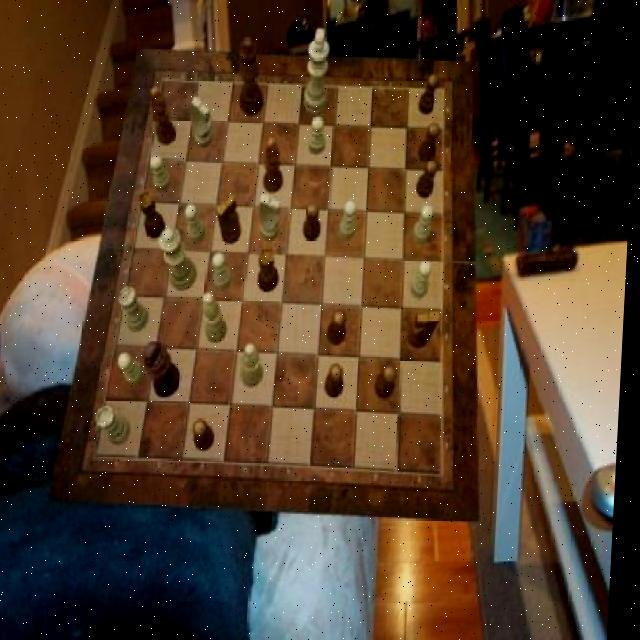bishop: (149, 88, 179, 146), (265, 139, 287, 193)
black-bishop: (146, 342, 186, 398)
black-king: (216, 196, 244, 244), (410, 311, 443, 348)
black-knight: (419, 123, 441, 163), (419, 74, 440, 115), (196, 418, 220, 452), (418, 160, 439, 198), (378, 365, 401, 399), (305, 203, 324, 241), (330, 310, 350, 346), (328, 363, 348, 398)
black-pawn: (237, 37, 268, 117)
black-queen: (139, 192, 169, 240), (259, 248, 284, 293)
black-rook: (203, 292, 231, 343), (243, 344, 268, 388)
white-bishop: (304, 30, 331, 116)
white-king: (191, 97, 216, 148), (260, 194, 283, 240)
white-knight: (120, 352, 149, 386), (185, 205, 209, 243), (150, 156, 174, 192), (413, 206, 435, 245), (412, 260, 434, 298), (340, 200, 360, 240), (213, 254, 234, 292), (309, 117, 328, 155)
white-pawn: (159, 228, 202, 292)
white-queen: (120, 288, 153, 332), (99, 406, 136, 445)
